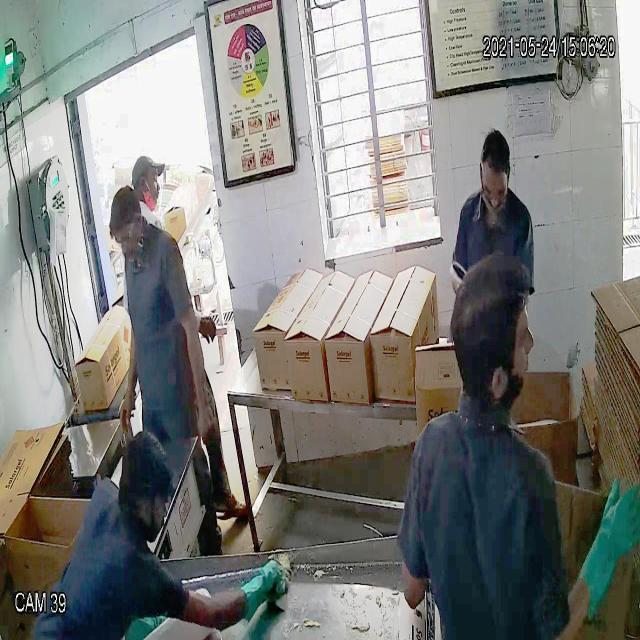glasses: (479, 168, 511, 204)
